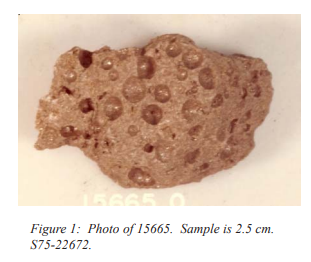Basalt: (40, 34, 272, 188)
